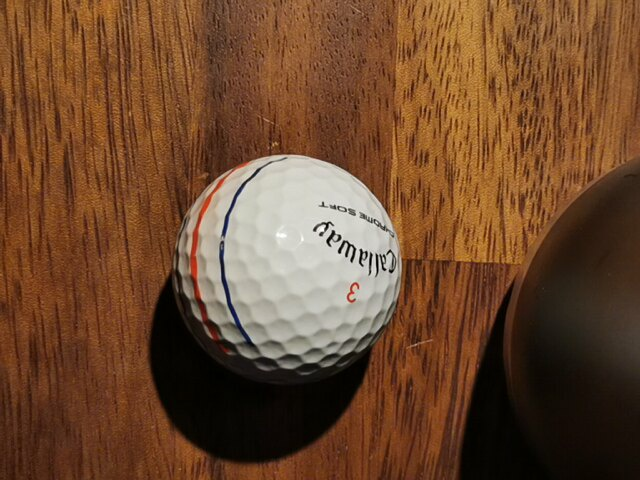Ball: (173, 154, 402, 386)
Callaway: (312, 220, 397, 278)
